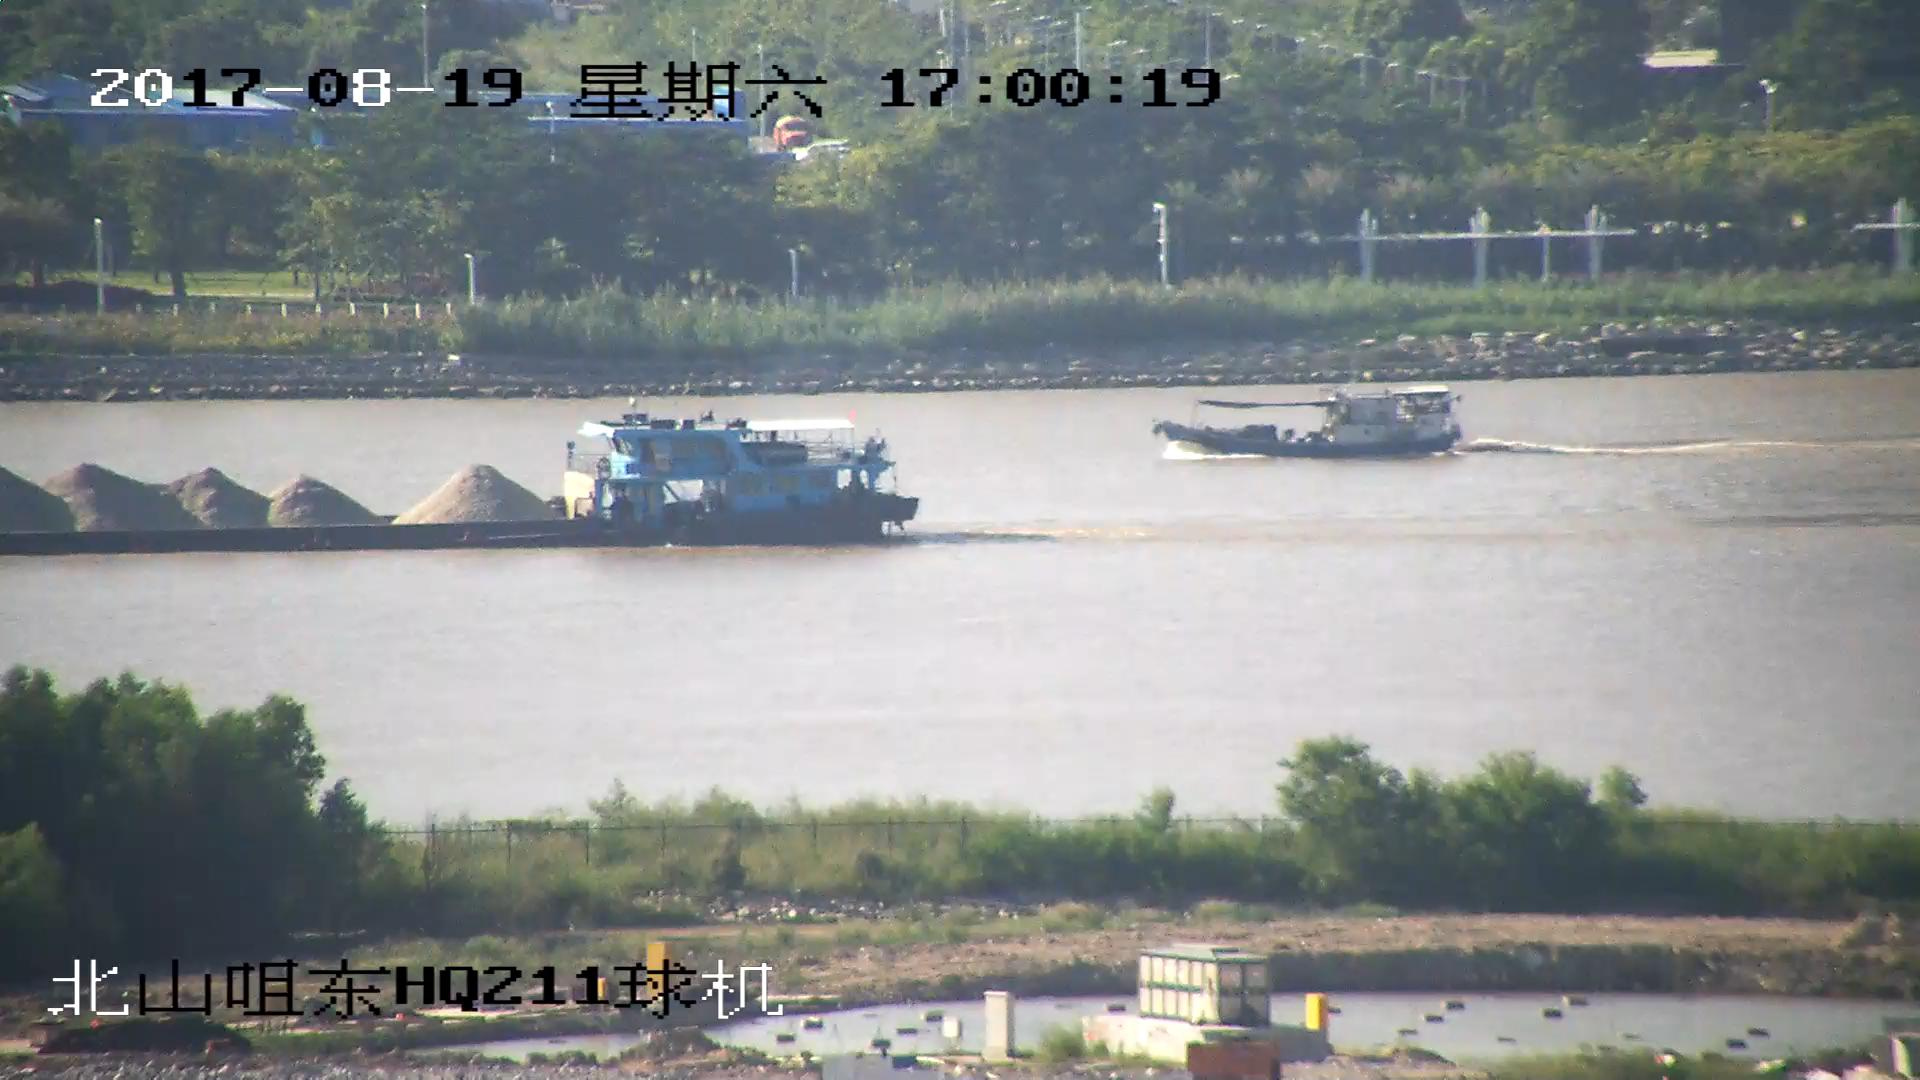fishing boat: (1156, 386, 1466, 464)
ore carrier: (1, 402, 920, 554)
